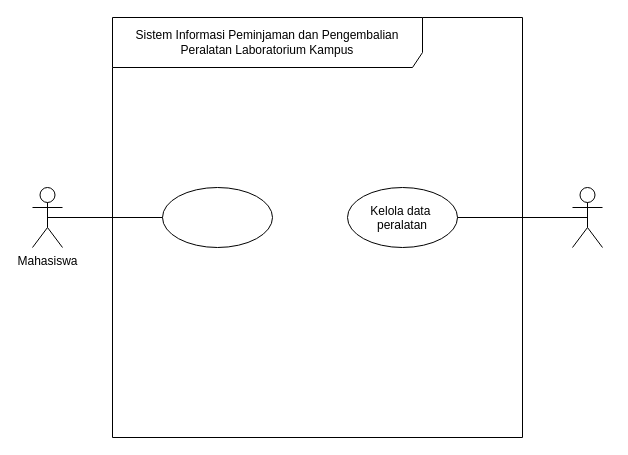
The diagram is 628 pixels wide and 455 high, and some of its shapes have lost their labels. The centre of each missing label's shape, as x and y in pixels:
Lihat ketersediaan peralatan: the point at 217,217
Petugas Laboran: the point at 587,217
